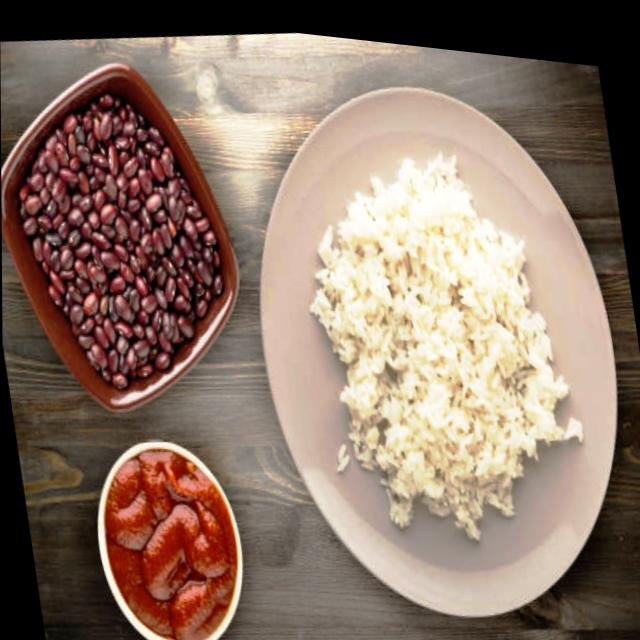rice: (287, 118, 600, 575)
